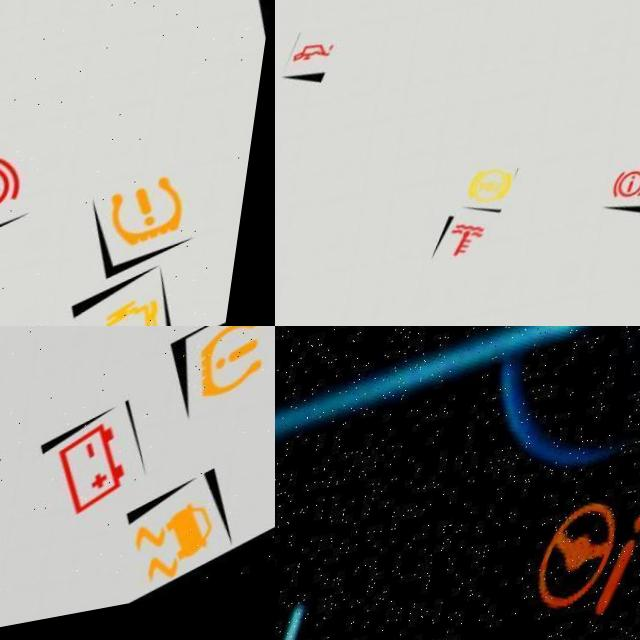Electronic Power Steering: (522, 462, 640, 640)
